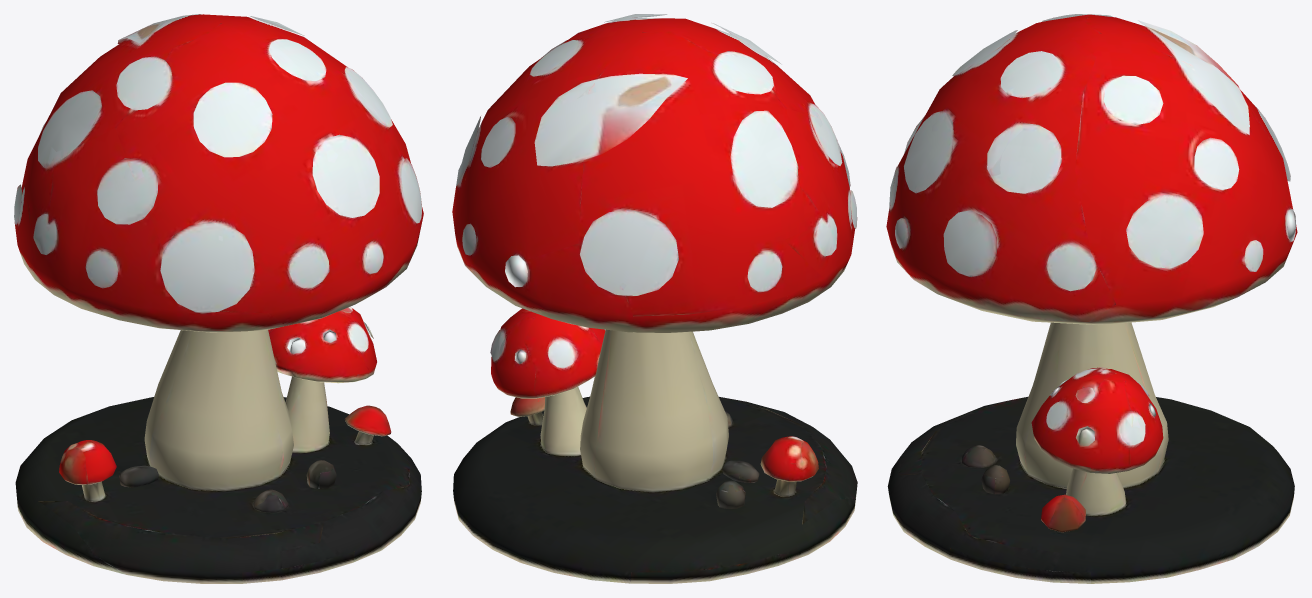
File: pokedex_fungi.glb
3 views of the same model, side by side, from view 1: azimuth 30°, elevation 25°; view 2: azimuth 150°, elevation 25°; view 3: azimuth 270°, elevation 25° (orthographic).
Bounding box in the file's own units: 0.7475 × 0.9517 × 0.7539.
Materials: 1 (1 with a texture image).
